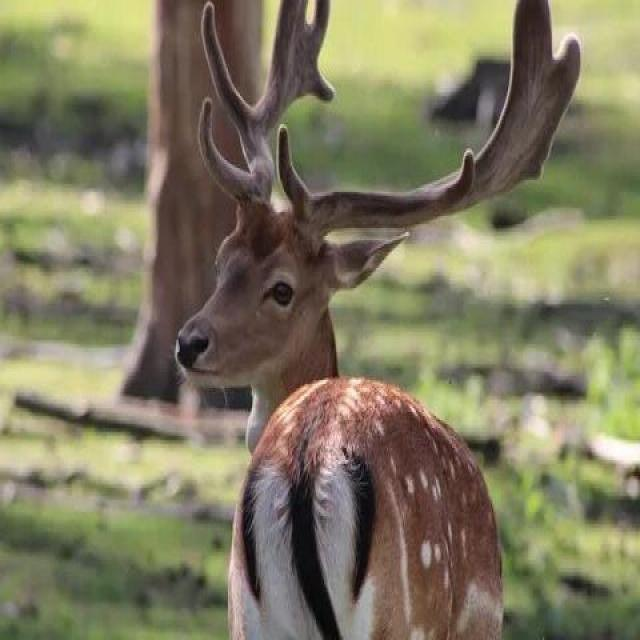deer: (164, 120, 491, 595)
